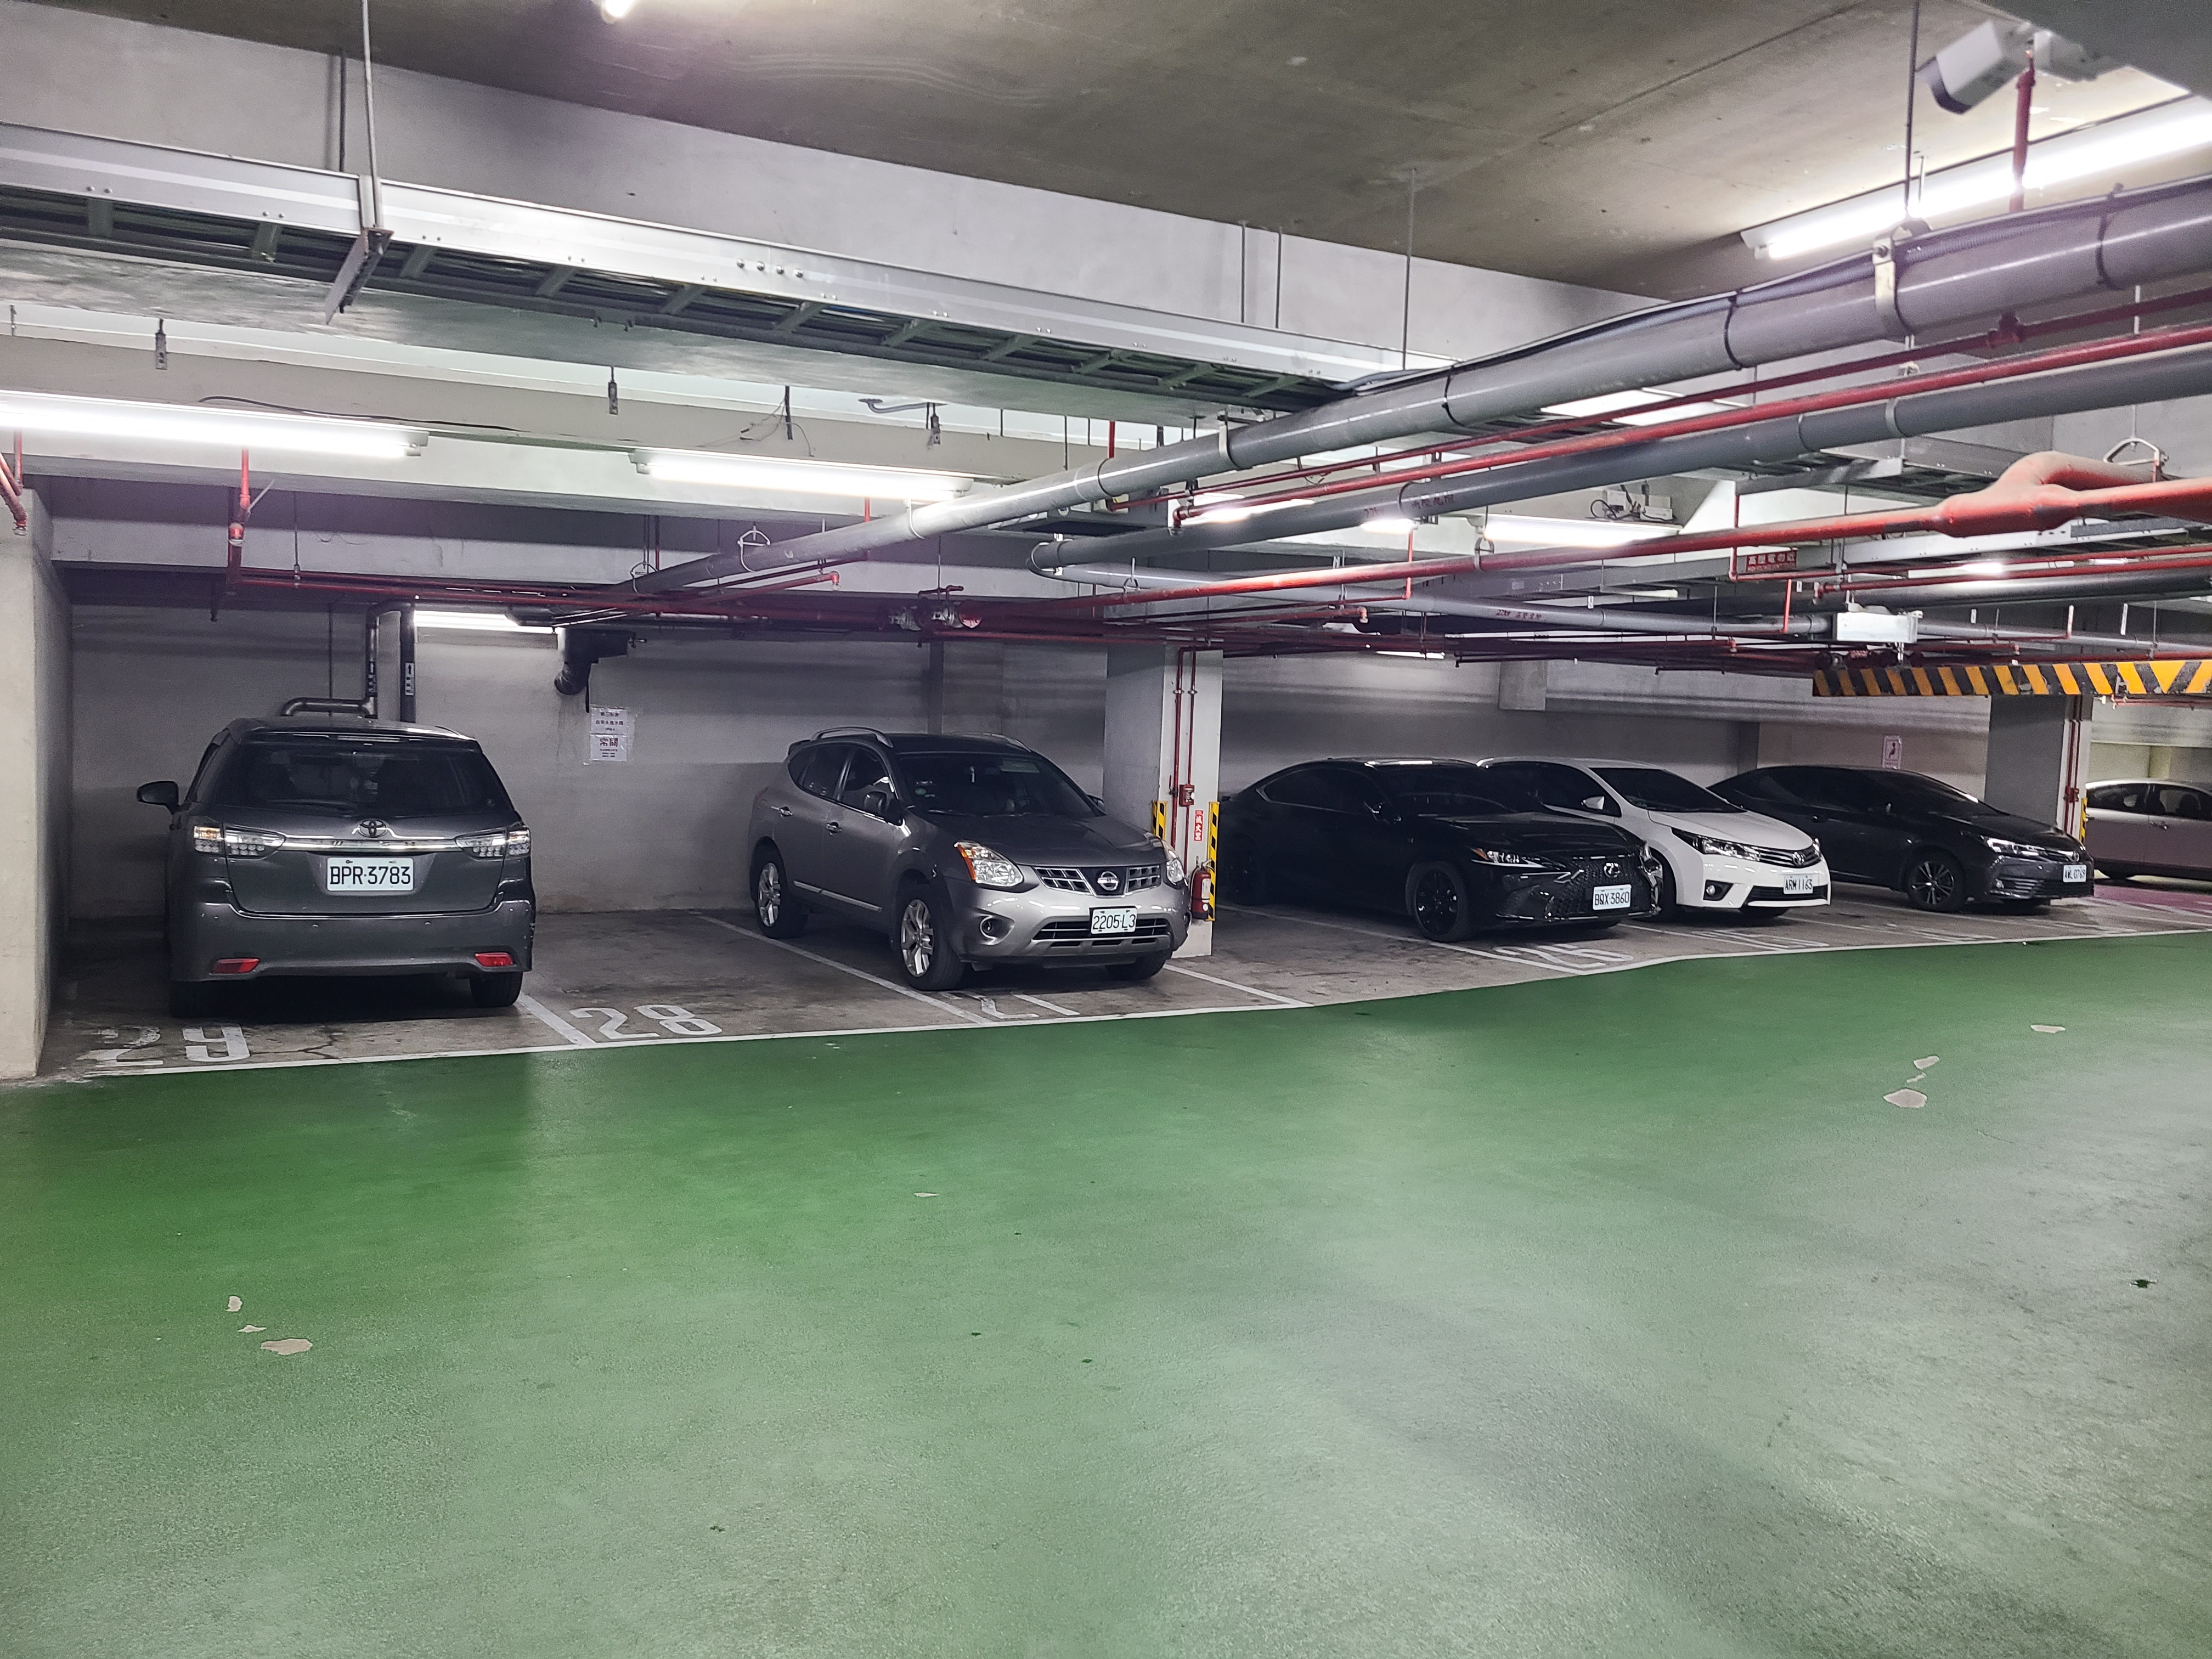car: (132, 714, 549, 1037), (744, 725, 1205, 995), (1221, 756, 1658, 945), (1811, 762, 2101, 922), (1576, 756, 1843, 922), (2087, 775, 2209, 904)
